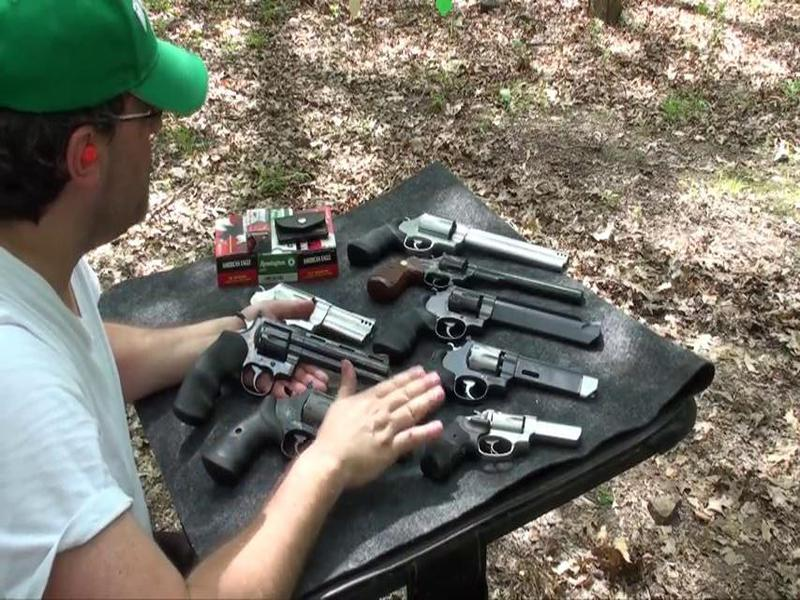Revolver: (171, 303, 372, 424)
